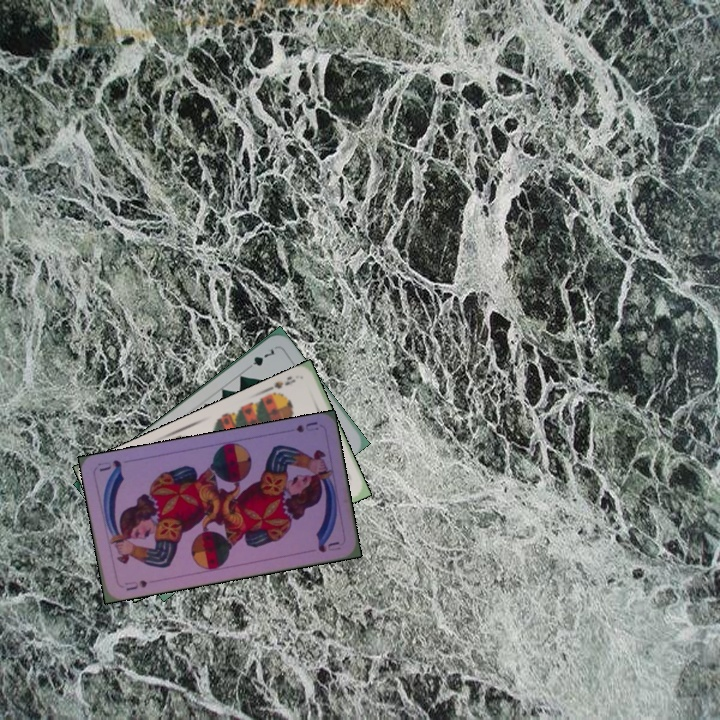G7: (242, 344, 277, 373)
S9: (261, 372, 298, 401)
SU: (292, 417, 321, 435), (121, 576, 149, 593)
